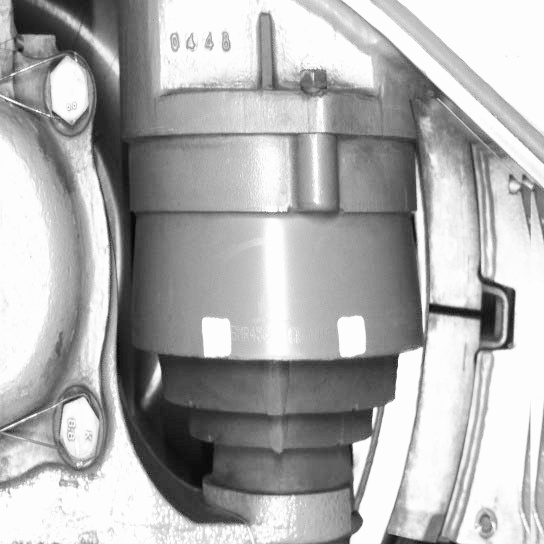ClosedKnifeSwitch: (379, 135, 498, 542)
